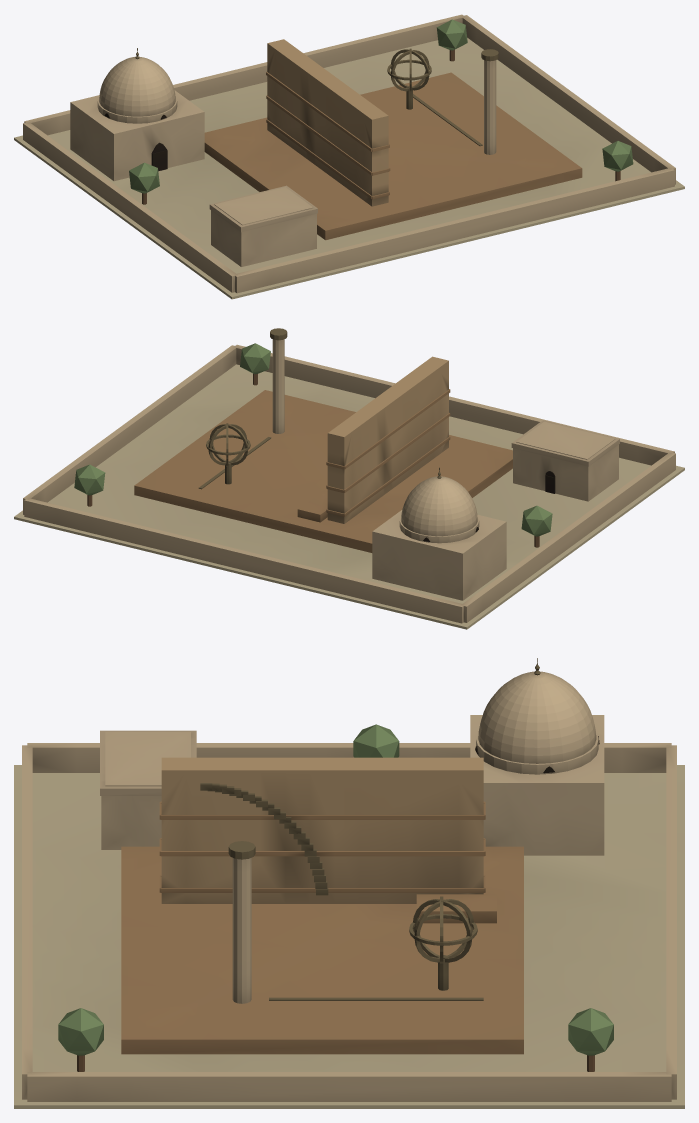
Rendered from shammasiyya-observatory.glb.
3 views of the same model, one above another, from view 1: azimuth 30°, elevation 25°; view 2: azimuth 150°, elevation 25°; view 3: azimuth 270°, elevation 25° (orthographic). The views are drawn at different scales.
Parts seen in each view (by area): view 1: p0_platform, p3_house, p1_meridian wall, p2_instruments; view 2: p0_platform, p3_house, p1_meridian wall, p2_instruments; view 3: p0_platform, p1_meridian wall, p3_house, p2_instruments.
Part boxes in pixels (left/top/right/bottom): p0_platform: left=14, top=14, right=684, bottom=299; p3_house: left=70, top=19, right=633, bottom=266; p1_meridian wall: left=266, top=39, right=390, bottom=206; p2_instruments: left=387, top=48, right=498, bottom=154; p0_platform: left=14, top=344, right=684, bottom=629; p3_house: left=74, top=343, right=619, bottom=600; p1_meridian wall: left=297, top=356, right=450, bottom=523; p2_instruments: left=198, top=328, right=287, bottom=489; p0_platform: left=14, top=743, right=684, bottom=1108; p1_meridian wall: left=159, top=757, right=496, bottom=923; p3_house: left=58, top=658, right=613, bottom=1071; p2_instruments: left=228, top=841, right=483, bottom=1003.
Size of the model in its own units: 60 by 14.12 by 50.
